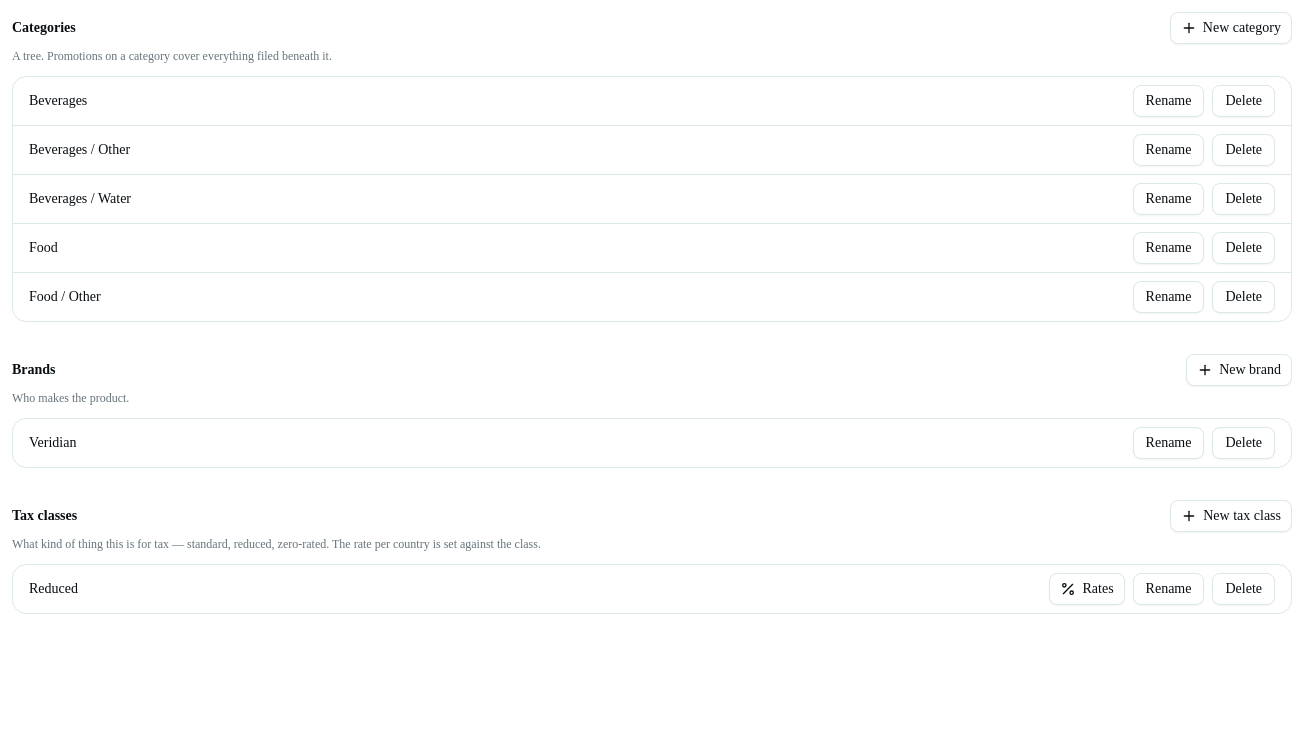
Test: <ClassificationBrowser> › passes on the API's refusal, which names the count and the next step
Expected: the heading "Brands" is shown, left=12, top=360, right=56, bottom=380
Step 1. Click the button with aria-label "Delete Veridian" → (1244, 443), box left=1212, top=427, right=1275, bottom=459
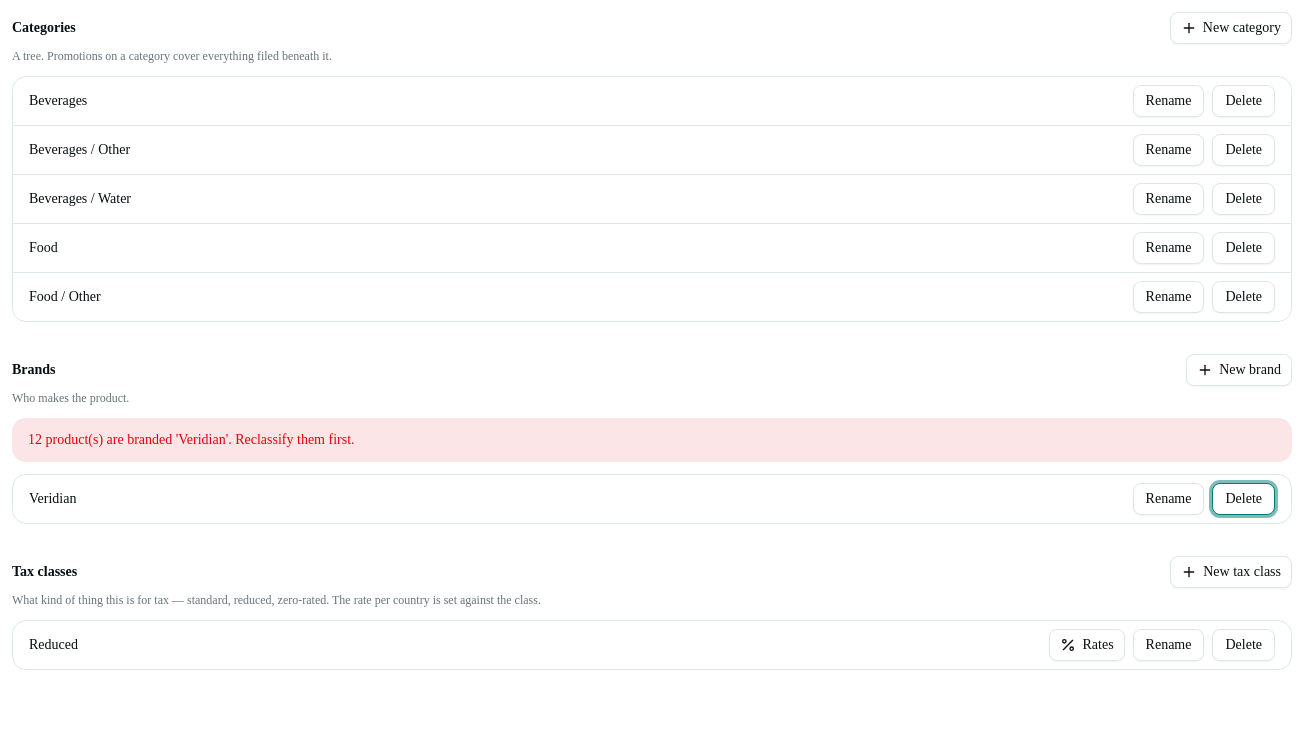
Result: the message shows "12 product(s)" at left=28, top=432, right=355, bottom=447
